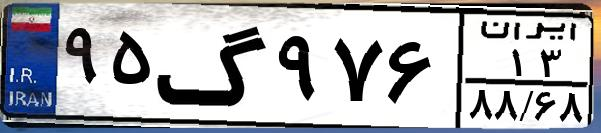1: (508, 27, 537, 80)
3: (537, 27, 568, 80)
5: (110, 28, 156, 98)
6: (385, 28, 445, 110), (535, 70, 560, 125)
7: (330, 28, 385, 110)
8: (560, 70, 590, 125), (470, 70, 495, 125), (495, 70, 520, 125)
9: (270, 28, 330, 110), (57, 26, 110, 100)
گ: (156, 12, 270, 120)
